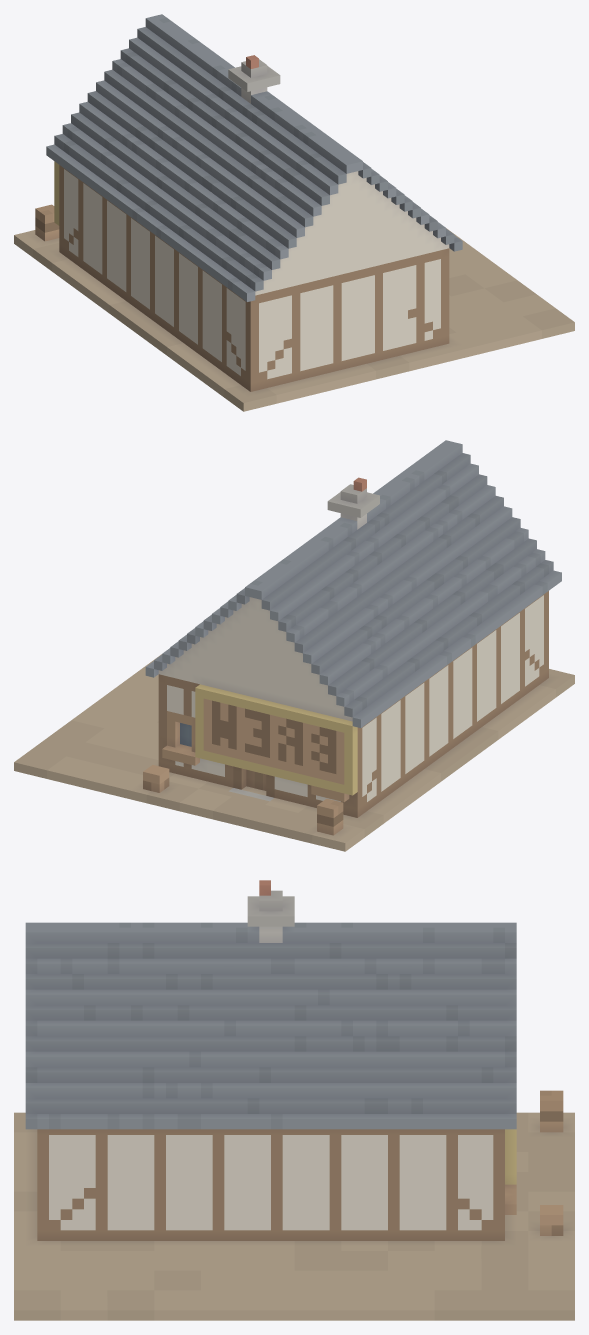
Rendered from brewery.glb.
The picture shows the model from 3 angles, top to bottom: view 1: azimuth 30°, elevation 25°; view 2: azimuth 150°, elevation 25°; view 3: azimuth 270°, elevation 25°; orthographic projection. The views are drawn at different scales.
Visible parts, largest first — view 1: brewery; view 2: brewery; view 3: brewery.
Boxes of the visible parts, left/top/right/bottom form: brewery: left=14, top=14, right=574, bottom=411; brewery: left=14, top=440, right=574, bottom=851; brewery: left=14, top=880, right=574, bottom=1320.
Size of the model in its own units: 5 by 3.62 by 6.
